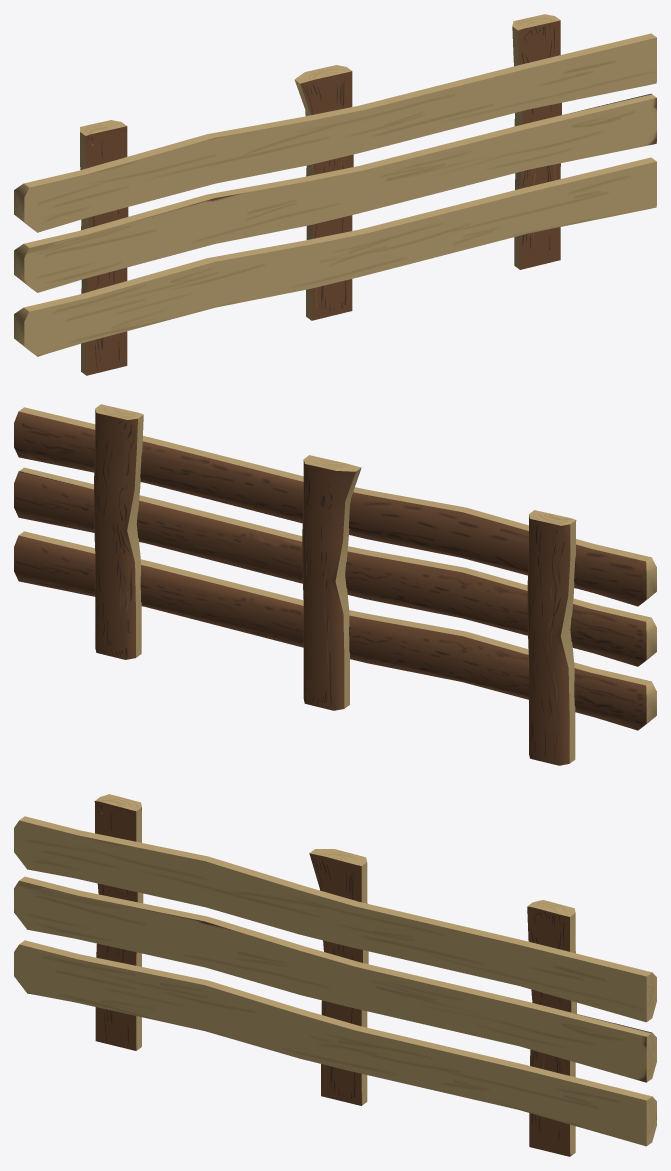
The model's file is fence.glb.
3 renders of one model, top to bottom at view 1: azimuth 30°, elevation 25°; view 2: azimuth 150°, elevation 25°; view 3: azimuth 330°, elevation 25°, orthographic.
Visible parts, largest first — view 1: pCube6, pCube10, pCube9, pCube8, pCube1, pCube7; view 2: pCube9, pCube10, pCube6, pCube1, pCube8, pCube7; view 3: pCube6, pCube10, pCube9, pCube1, pCube8, pCube7.
Boxes of the visible parts, x1,y1,x2,y2 form: pCube6: [14, 33, 656, 232]; pCube10: [14, 157, 656, 356]; pCube9: [14, 93, 656, 292]; pCube8: [512, 14, 561, 269]; pCube1: [294, 65, 353, 320]; pCube7: [80, 120, 128, 375]; pCube9: [14, 467, 656, 666]; pCube10: [14, 531, 656, 730]; pCube6: [14, 407, 656, 606]; pCube1: [302, 455, 361, 710]; pCube8: [94, 404, 143, 659]; pCube7: [527, 510, 576, 765]; pCube6: [14, 816, 656, 1022]; pCube10: [14, 940, 656, 1146]; pCube9: [14, 876, 656, 1082]; pCube1: [309, 849, 368, 1105]; pCube8: [527, 900, 576, 1156]; pCube7: [94, 794, 143, 1050].
Size of the model in its own units: 211 by 76.81 by 11.55.
1 material, 1 textured.
